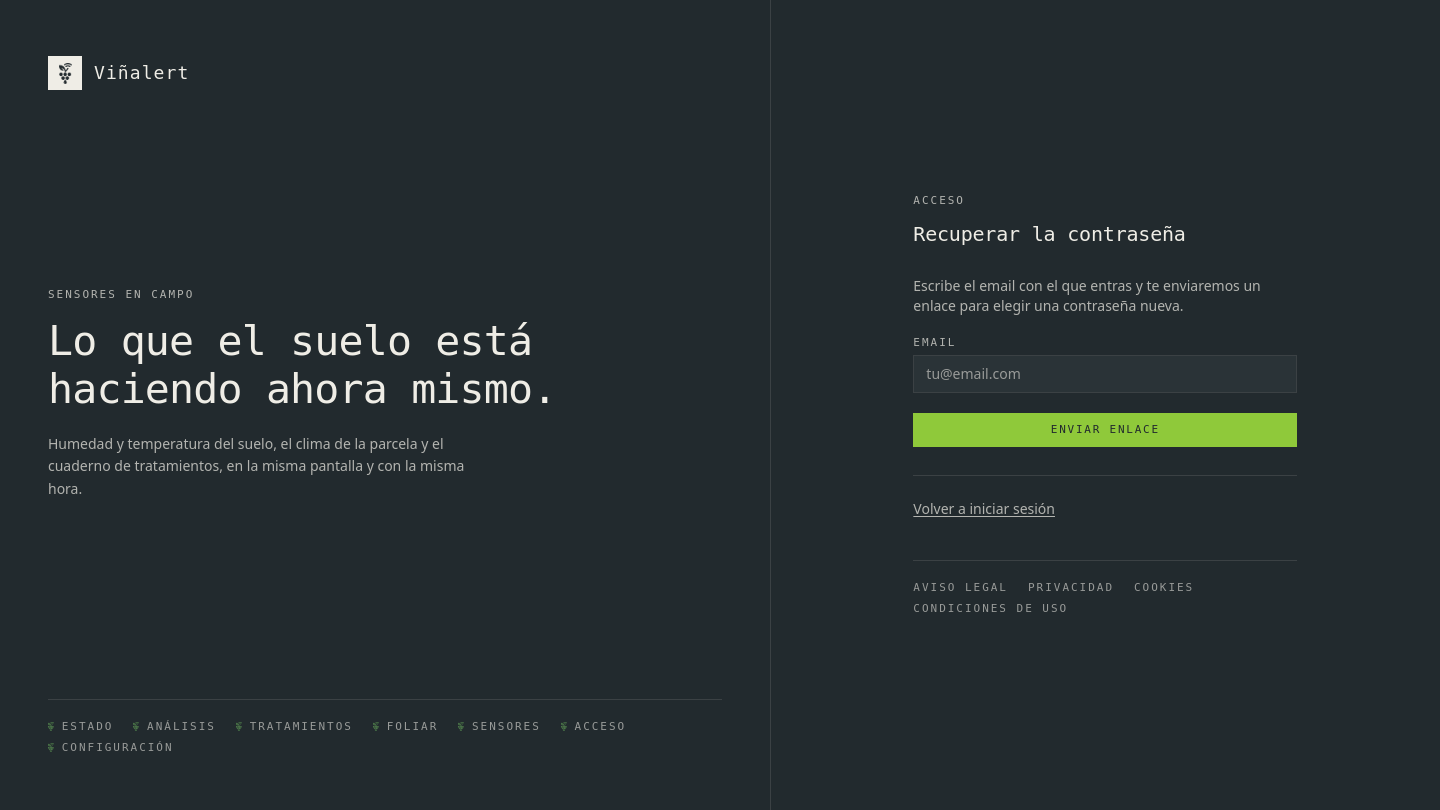
Test case: recuperar la contraseña › tras enviar, dice siempre lo mismo
The image size is (1440, 810).
In the field labelled "Email": [1105, 374] box [913, 355, 1297, 393], type "ana@x.es"
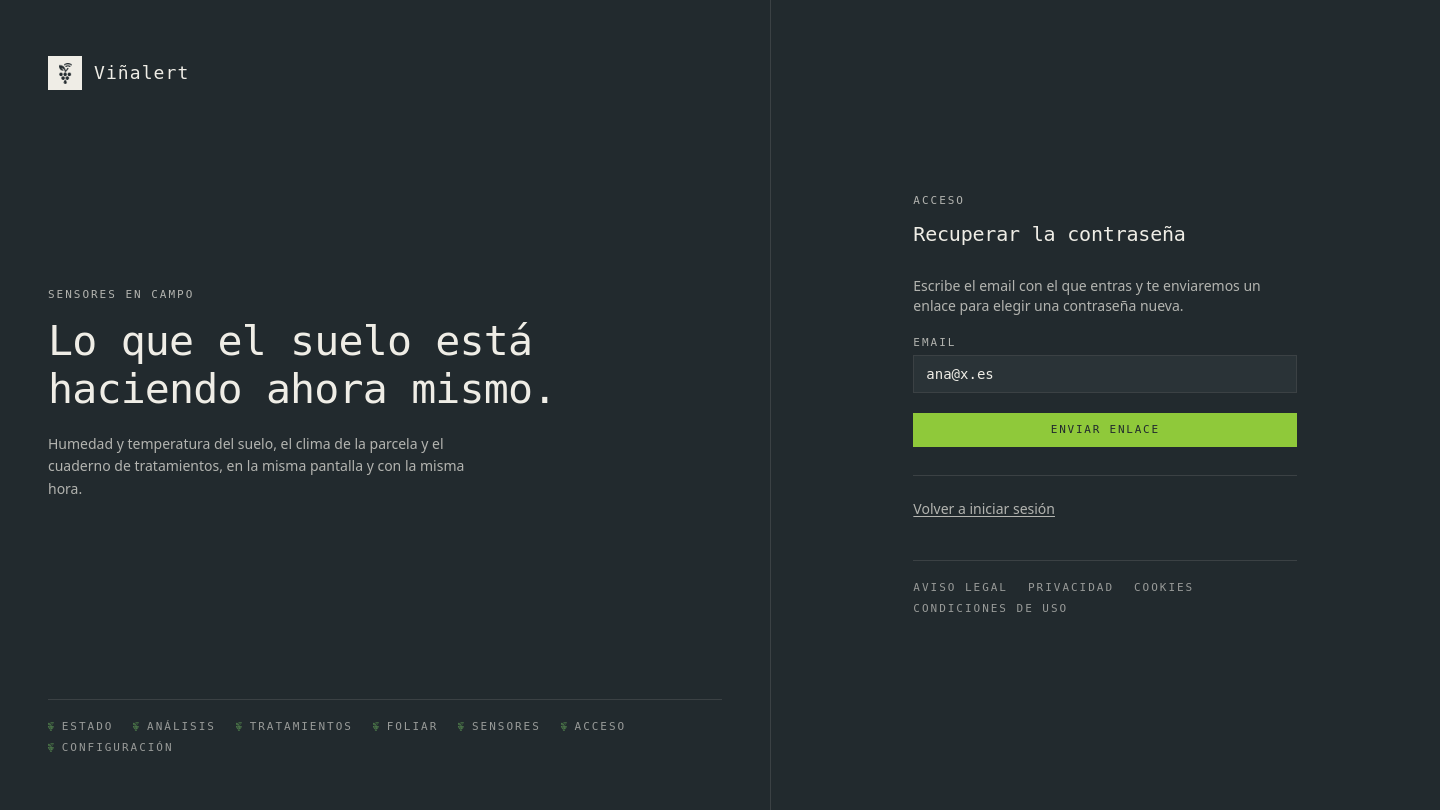
Click the button "Enviar enlace": [1105, 430] box [913, 413, 1297, 447]
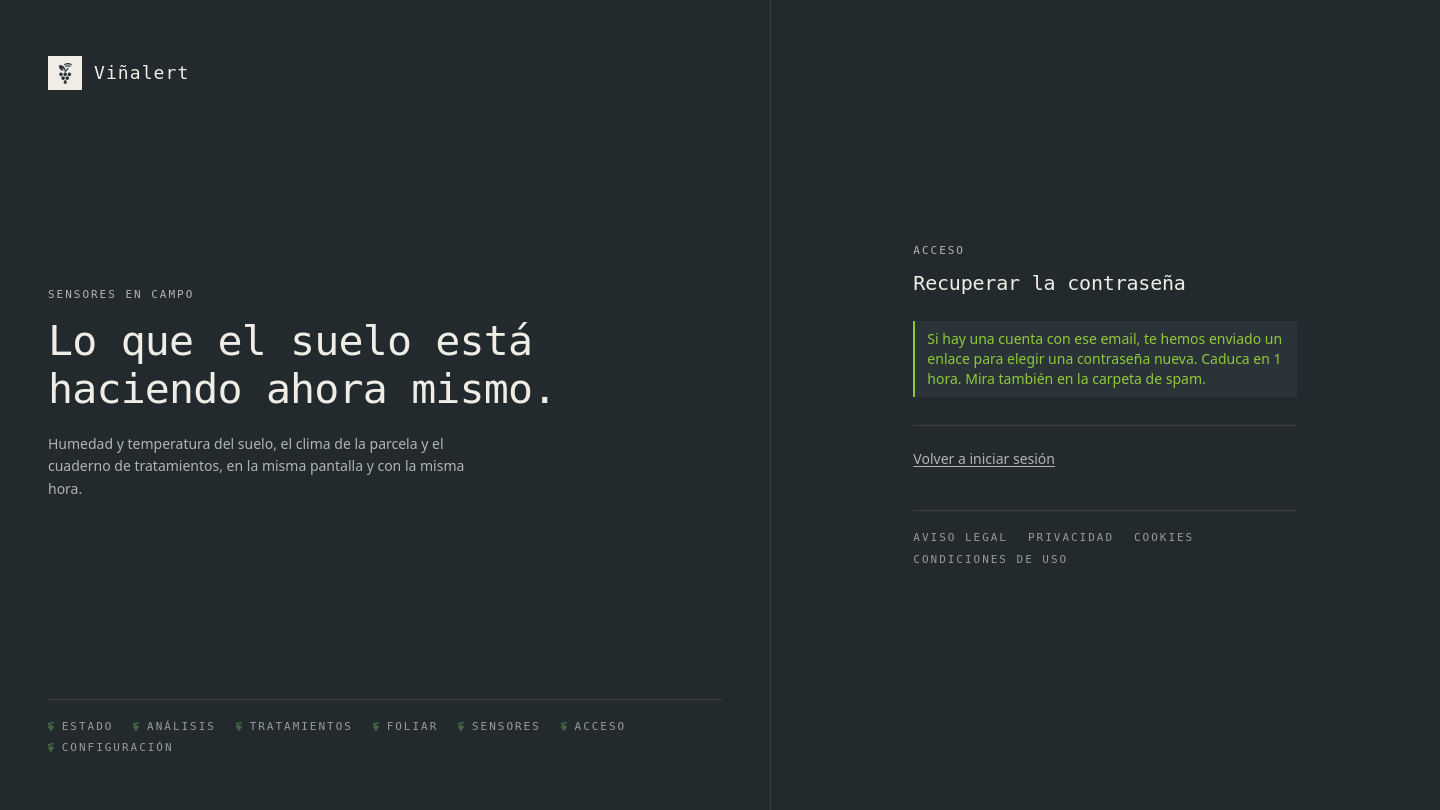
Expected: the text "Si hay una cuenta con ese email" is shown, [927, 329, 1282, 388]
